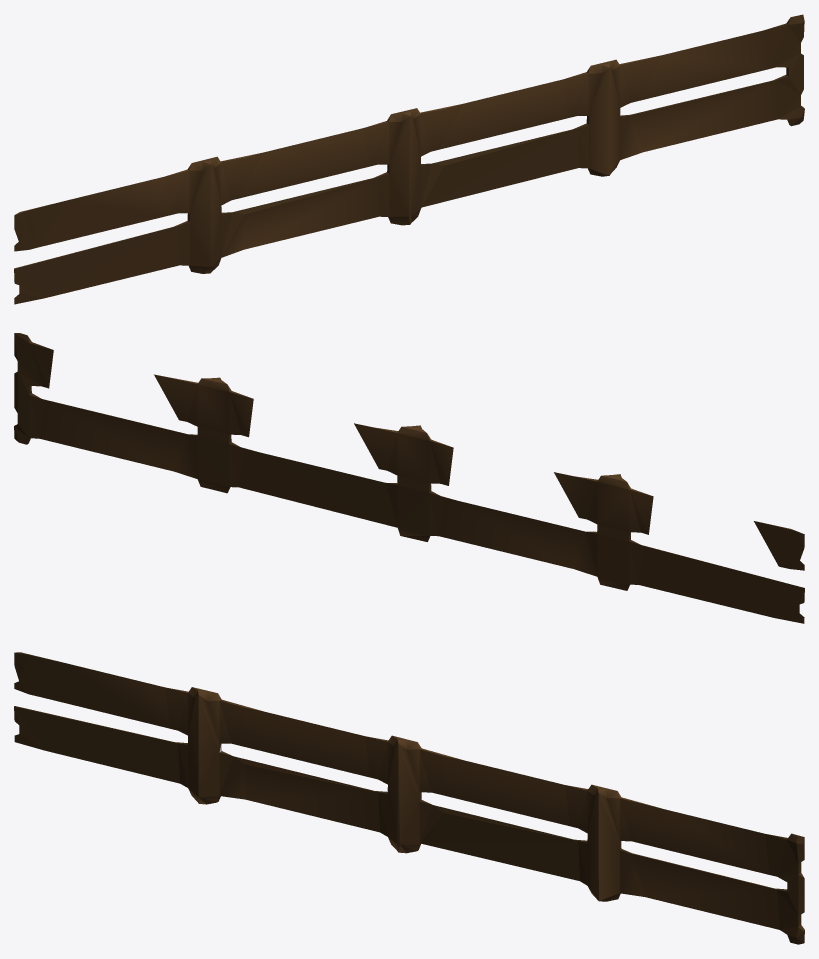
Rendered from Horizontal Fence.glb.
3 renders of one model, top to bottom at view 1: azimuth 30°, elevation 25°; view 2: azimuth 150°, elevation 25°; view 3: azimuth 330°, elevation 25°, orthographic.
Visible parts, largest first — view 1: Root; view 2: Root; view 3: Root.
Boxes of the visible parts, x1,y1,x2,y2 form: Root: [14, 14, 804, 304]; Root: [14, 333, 804, 623]; Root: [14, 652, 804, 944].
Size of the model in its own units: 4.4 by 0.5964 by 0.0727.
